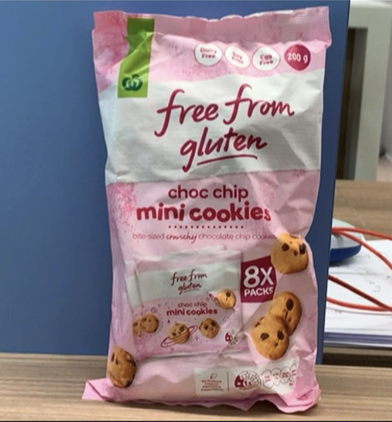cookies_150g: (111, 65, 309, 383)
